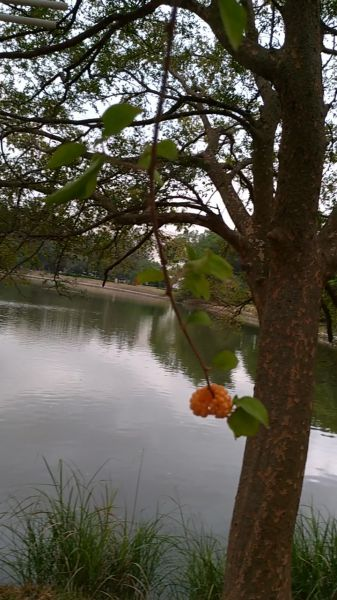eggs: (182, 378, 240, 423)
